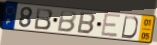8: (18, 7, 34, 29)
B: (56, 9, 77, 34), (76, 11, 97, 35), (34, 7, 54, 31)
D: (120, 15, 140, 40)
E: (100, 13, 122, 39)
